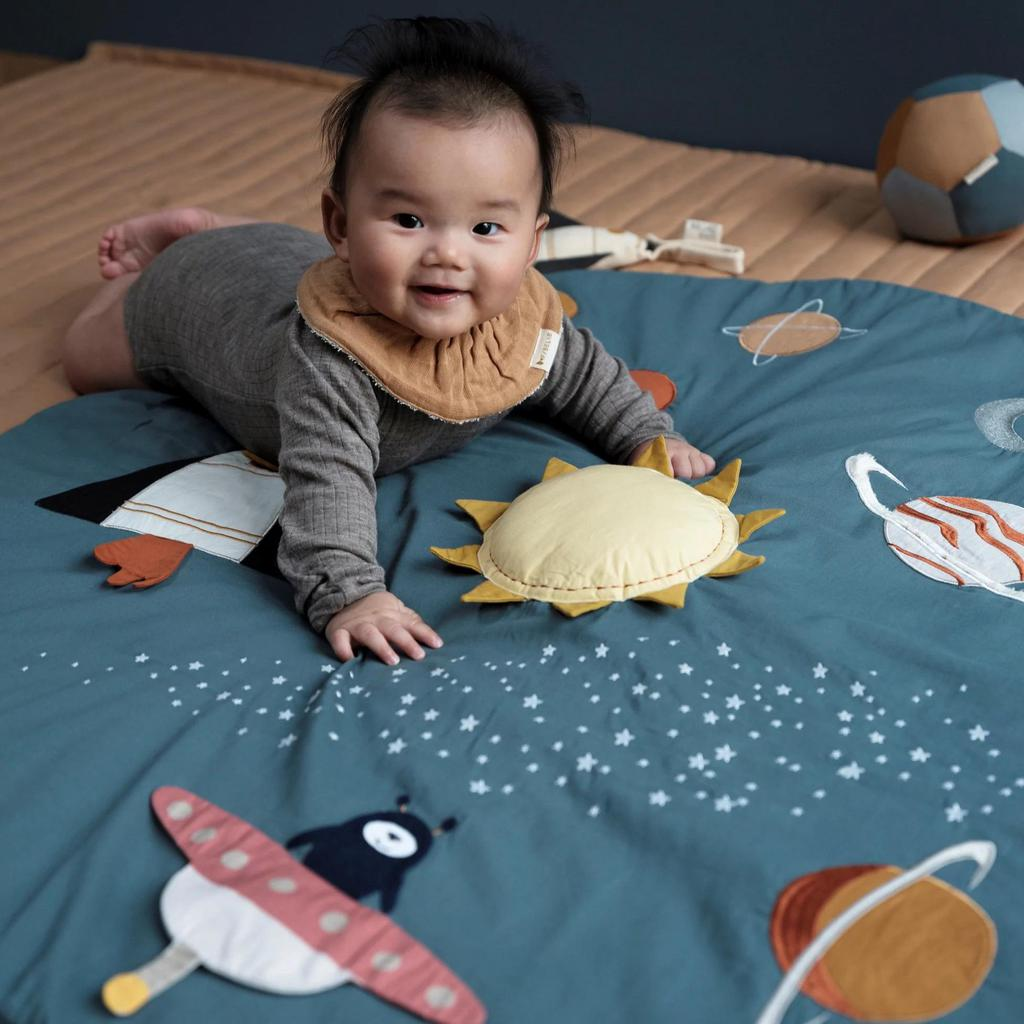child: (41, 31, 762, 682)
